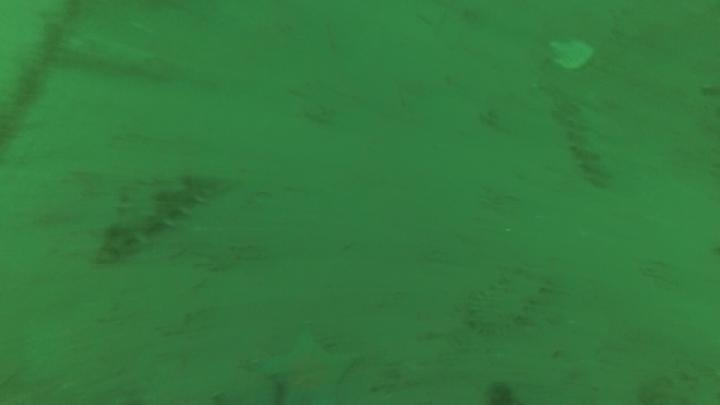holothurian: (91, 167, 230, 264), (462, 265, 556, 338), (558, 96, 616, 191)
starfish: (257, 324, 362, 405)
